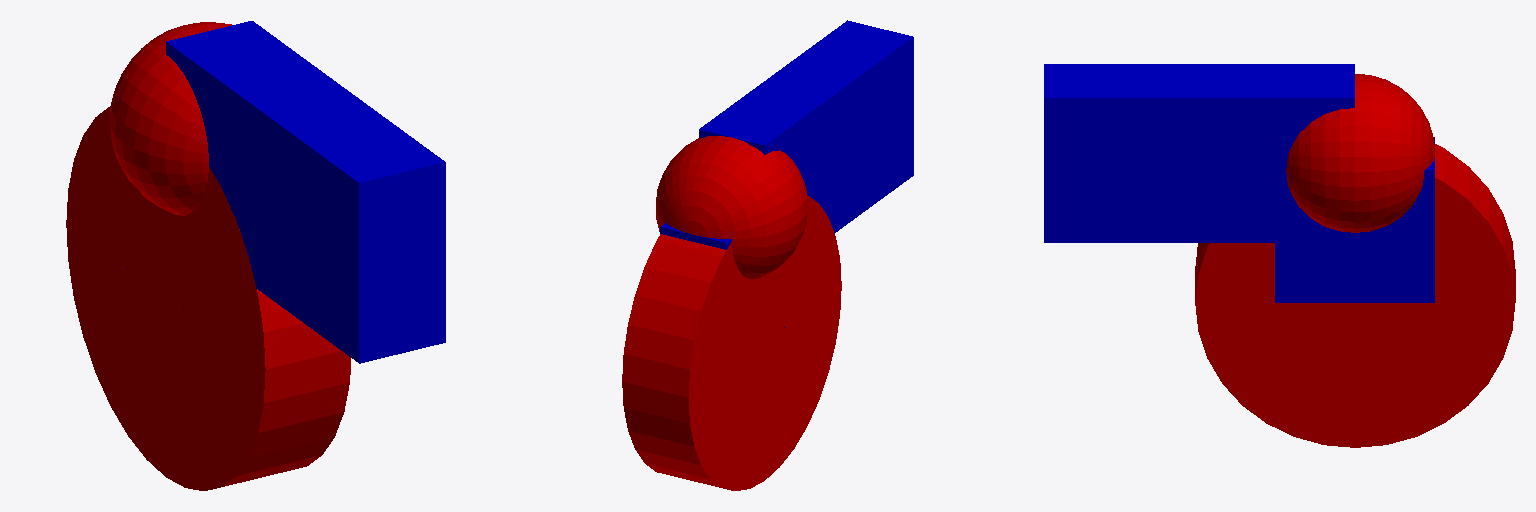
robot.urdf — TwoLinkStruct846932431:
<?xml version="1.0"?>
<robot  name="TwoLinkStruct846932431" >
 <material  name="blue" >
  <color  rgba="0 0 0.8 1.0" />
 </material>
 <material  name="red" >
  <color  rgba="0.8 0 0 1.0" />
 </material>
 <link  name="base_link" >
  <visual >
   <origin  rpy="0 1.5707 0"  xyz="0 0 0" />
   <material  name="red" />
   <geometry >
    <cylinder  length="0.05"  radius="0.1" />
   </geometry>
  </visual>
 </link>
 <joint  type="revolute"  name="joint1" >
  <parent  link="base_link" />
  <child  link="link1" />
  <origin  xyz="0 0 0"  rpy="0 0 0" />
  <axis  xyz="1 0 0" />
 </joint>
 <link  name="link1" >
  <inertial >
   <origin  rpy="0 0 0"  xyz="0 0 0.04559400566868267" />
   <mass  value="0.19923784237903294" />
   <inertia  ixy="0.0"  iyy="8.301576765793039e-05"  izz="0.00017956731287685872"  ixz="0.0"  ixx="0.00017956731287685872"  iyz="0.0" />
  </inertial>
  <visual >
   <origin  rpy="0 0 0"  xyz="0 0 0.04559400566868267" />
   <material  name="blue" />
   <geometry >
    <box  size="0.05 0.1 0.09118801133736534" />
   </geometry>
  </visual>
 </link>
 <joint  type="fixed"  name="joint-joint-1" >
  <parent  link="link1" />
  <child  link="joint-link-1" />
  <origin  xyz="0 0 0.09118801133736534"  rpy="1.5707 0 0" />
  <axis  xyz="1 0 0" />
 </joint>
 <link  name="joint-link-1" >
  <inertial >
   <origin  rpy="0 0 0"  xyz="0 0 0" />
   <mass  value="1.3737456126409997" />
   <inertia  ixy="0"  iyy="0"  izz="0"  ixz="0"  ixx="0"  iyz="0" />
  </inertial>
  <visual >
   <origin  rpy="0 0 0"  xyz="0 0 0" />
   <material  name="red" />
   <geometry >
    <sphere  radius="0.05" />
   </geometry>
  </visual>
 </link>
 <joint  type="revolute"  name="joint2" >
  <parent  link="link1" />
  <child  link="link2" />
  <origin  xyz="0 0 0.09118801133736534"  rpy="1.5707 0 0" />
  <axis  xyz="1 0 0" />
 </joint>
 <link  name="link2" >
  <inertial >
   <origin  rpy="0 0 0"  xyz="0 0 0.09702853111204907" />
   <mass  value="0.3651279871813244" />
   <inertia  ixy="0.0"  iyy="8.301576765793039e-05"  izz="0.0006667518203978355"  ixz="0.0"  ixx="0.0006667518203978355"  iyz="0.0" />
  </inertial>
  <visual >
   <origin  rpy="0 0 0"  xyz="0 0 0.09702853111204907" />
   <material  name="blue" />
   <geometry >
    <box  size="0.05 0.1 0.19405706222409813" />
   </geometry>
  </visual>
 </link>
 <joint  type="fixed"  name="eef_joint" >
  <parent  link="link2" />
  <child  link="eef" />
  <origin  xyz="0 0 0.19405706222409813"  rpy="0 0 0" />
 </joint>
 <link  name="eef" >
  <inertial >
   <origin  rpy="0 0 0"  xyz="0 0 0" />
   <mass  value="1" />
   <inertia  ixy="0"  iyy="0"  izz="0"  ixz="0"  ixx="0"  iyz="0" />
  </inertial>
 </link>
 <transmission  name="motor1" >
  <type  xmltext="SimpleTransmission" >
   SimpleTransmission
  </type>
  <actuator  name="motor1" >
   <mechanicalreduction  xmltext="1" >
    1
   </mechanicalreduction>
  </actuator>
  <joint  name="joint1" />
 </transmission>
 <transmission  name="motor2" >
  <type  xmltext="SimpleTransmission" >
   SimpleTransmission
  </type>
  <actuator  name="motor2" >
   <mechanicalreduction  xmltext="1" >
    1
   </mechanicalreduction>
  </actuator>
  <joint  name="joint2" />
 </transmission>
</robot>

<!-- {'carti': array([-0.1 ,  0.14,  0.85]), 'cartd': array([-0.1 ,  0.32,  1.29]), 'tau_mu': 1.0, 'b0': 0.0, 'Km': 3.388481792013819, 'k_velocity': 53.32249483364719, 'tau_max_m': 3.1122674767240928, 'omega_max_m': 1064.9872088758634, 'gear_ratio': 25.0, 'Kp': 12.767569349680777, 'Kd': 74.75830036501347, 'm_m': 1.3737456126409997, 'l1': 0.09118801133736534, 'l2': 0.19405706222409813, 'k1': 21087.24789963098, 'k2': 309095814.45199406, 'k3': 176603219.4759881}-->

--- Render facts (derived) ---
3 views of the same robot in one strip: view 1: azimuth 30°, elevation 25°; view 2: azimuth 150°, elevation 25°; view 3: azimuth 270°, elevation 25° (orthographic).
Model TwoLinkStruct846932431 with 5 links and 4 joints (2 revolute, 2 fixed), rooted at base_link, posed every joint at zero.
Links seen in each view (by area): view 1: base_link, link2, joint-link-1; view 2: base_link, link2, joint-link-1, link1; view 3: base_link, link2, joint-link-1, link1.
Link boxes in pixels (left/top/right/bottom): base_link: left=66, top=106, right=350, bottom=490; link2: left=166, top=21, right=445, bottom=363; joint-link-1: left=110, top=22, right=231, bottom=215; base_link: left=622, top=196, right=841, bottom=490; link2: left=699, top=20, right=913, bottom=232; joint-link-1: left=656, top=136, right=807, bottom=279; link1: left=660, top=223, right=784, bottom=327; base_link: left=1195, top=144, right=1515, bottom=447; link2: left=1044, top=64, right=1354, bottom=242; joint-link-1: left=1286, top=74, right=1434, bottom=232; link1: left=1275, top=137, right=1434, bottom=302.
Bounding box of the posed robot: 0.1 × 0.2941 × 0.2412 m (x, y, z).
Geometry: primitives only (box / cylinder / sphere), no mesh files.
